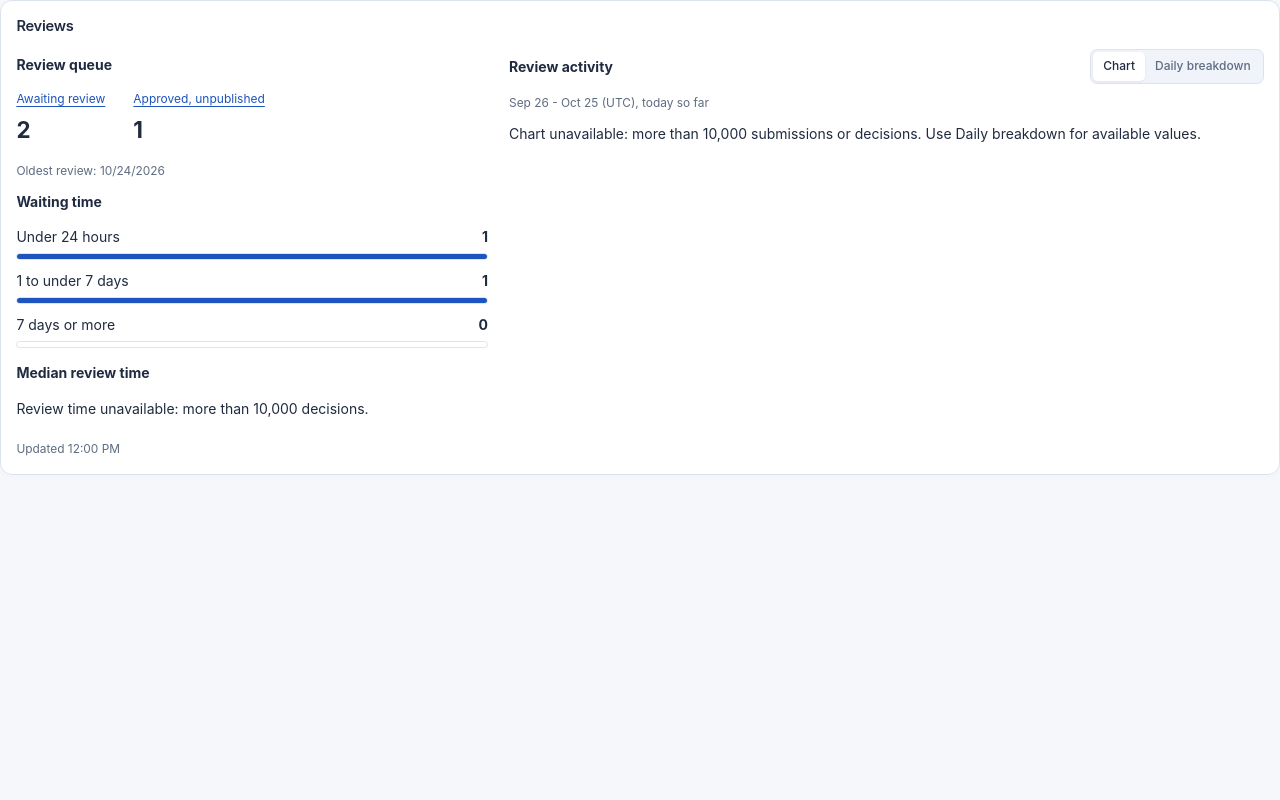
Scenario: omits incomplete decisions distributions without hiding complete independent measures
Expected: the text "Oldest review:" is shown, [16,163,96,178]
Click the button "Daily breakdown". click: (1203,66)
box: [1145,52,1261,81]
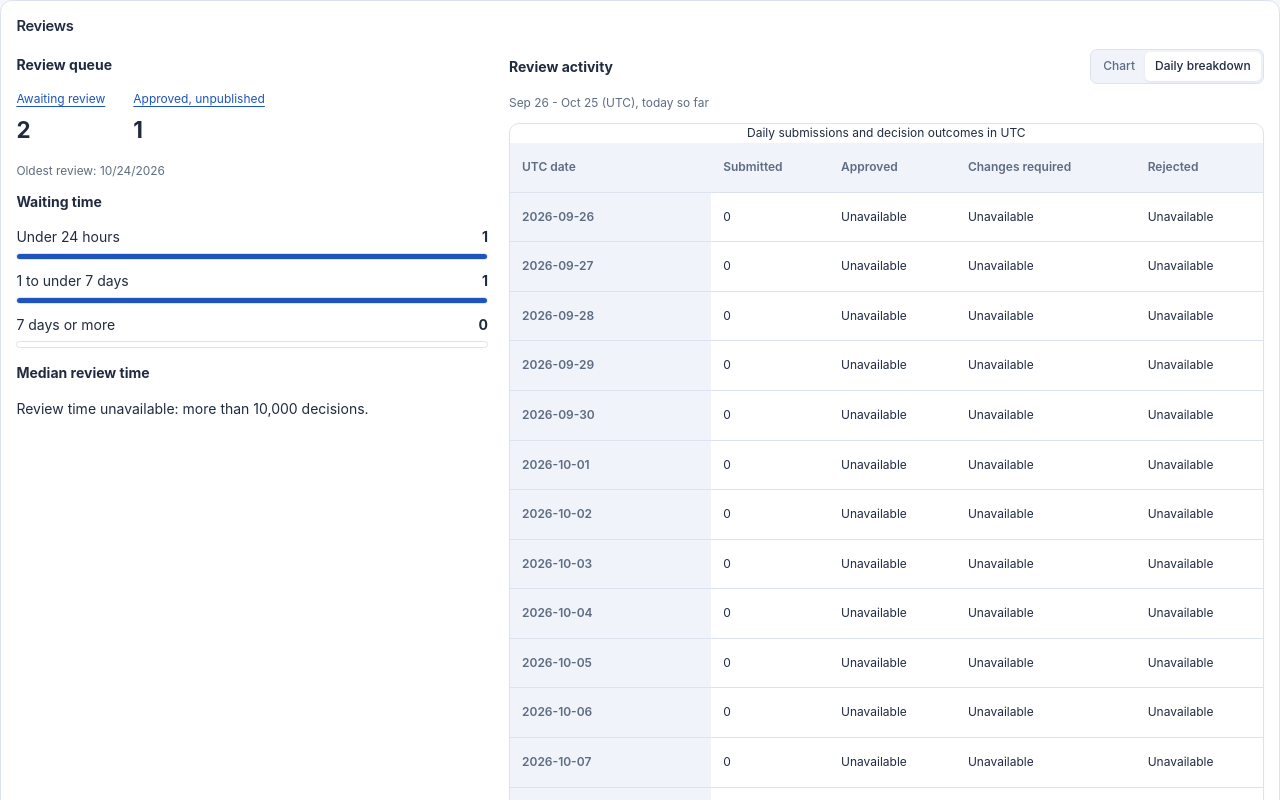
Expected: the text "Review time unavailable: more than 10,000 decisions." is shown, [16,400,369,417]
Expected: the 1st text "Unavailable" is shown, [829,192,956,242]
